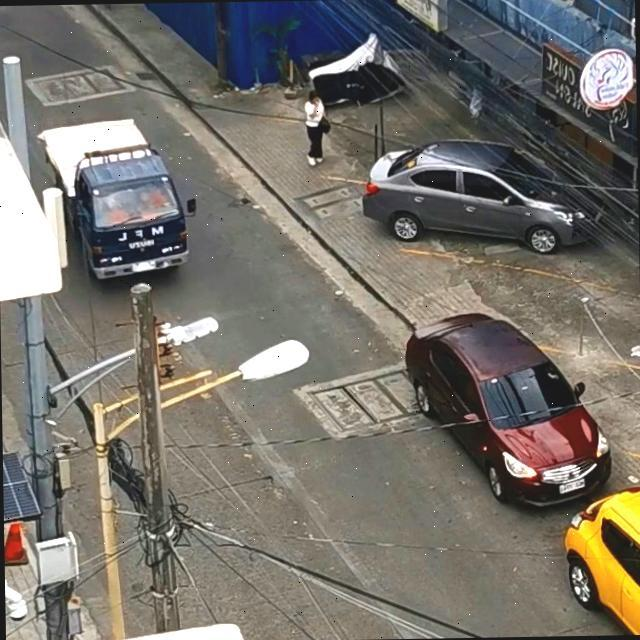Truck: (42, 118, 194, 282)
